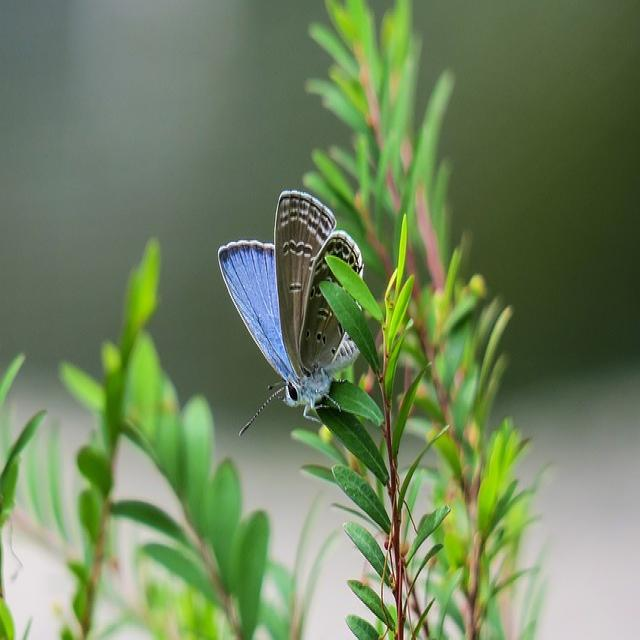butterfly: (220, 191, 365, 406)
